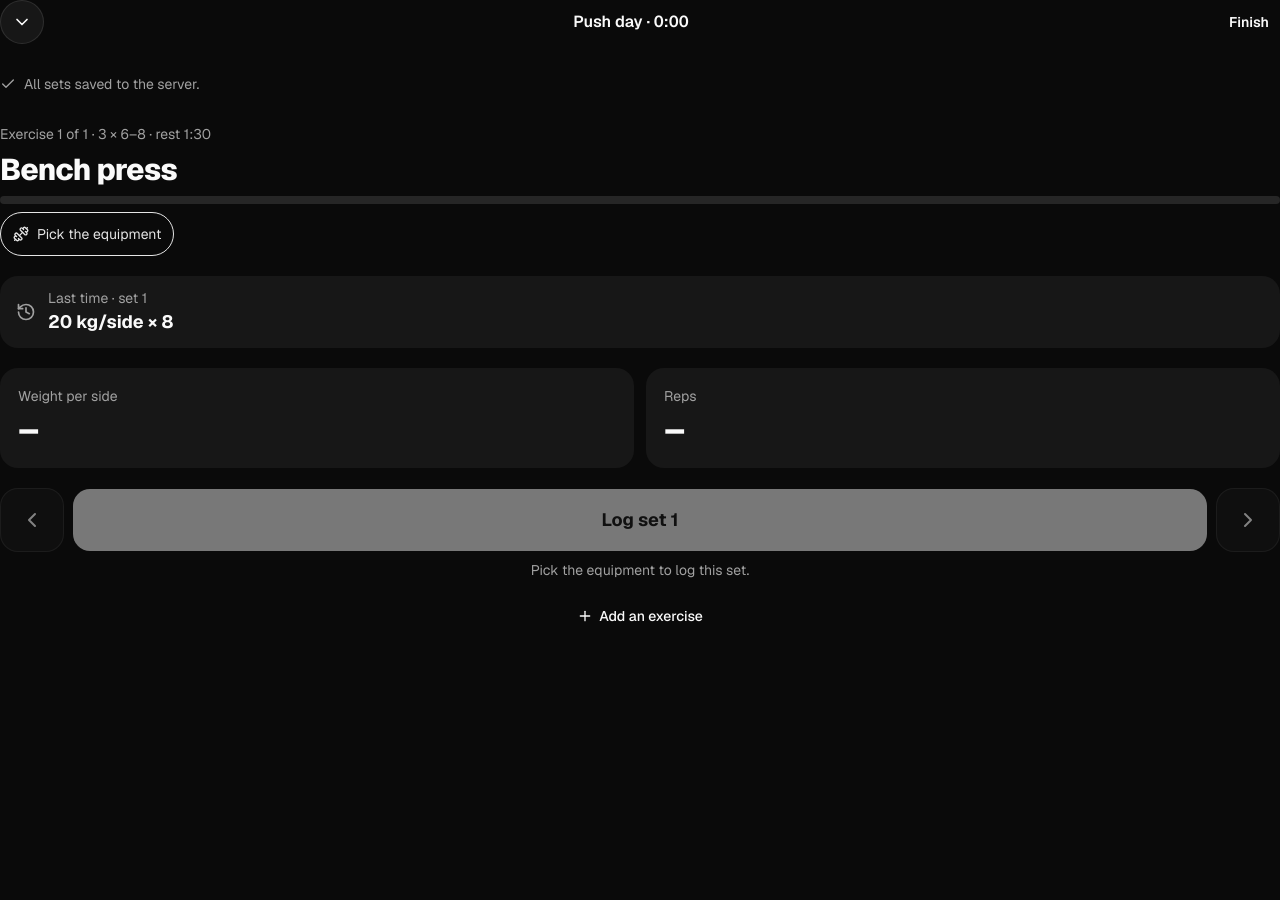
Scenario: the workout screen, wired › says why a set cannot be logged, and offers equipment that fits when there is none
The width and height of the screenshot is (1280, 900).
Expected: the text "Pick the equipment to log this set." is shown, [531,561,749,579]
Click the button "Pick the equipment": (87, 234) [0,212,174,256]
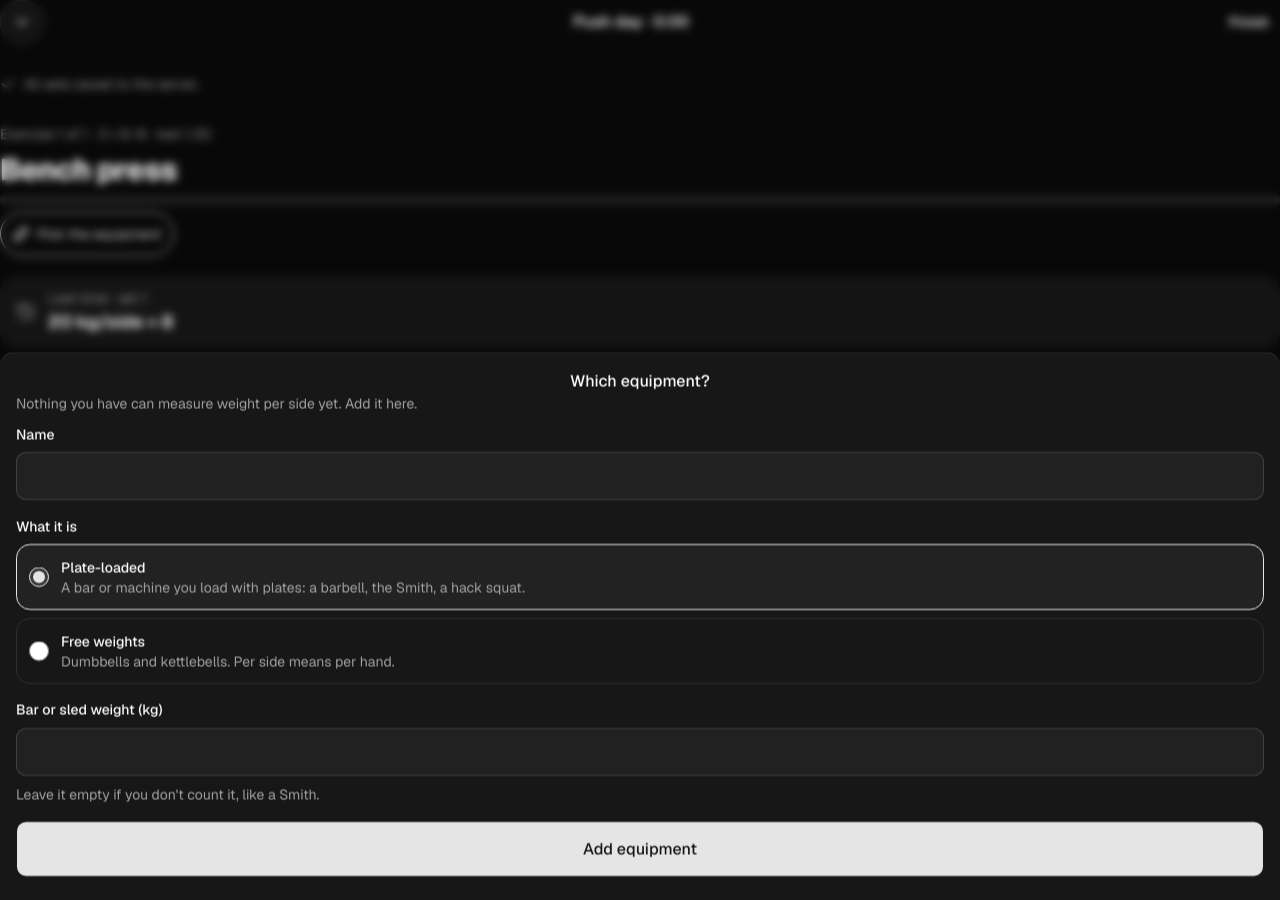
Result: the text "Nothing you have can measure weight per side" is shown at [16,394,417,412]
Result: the number of radio buttons is 2 at [29,567,49,587]; [29,641,49,661]
In the field labelled "Name": (640, 476) [16,452,1264,500], type "Olympic bar"
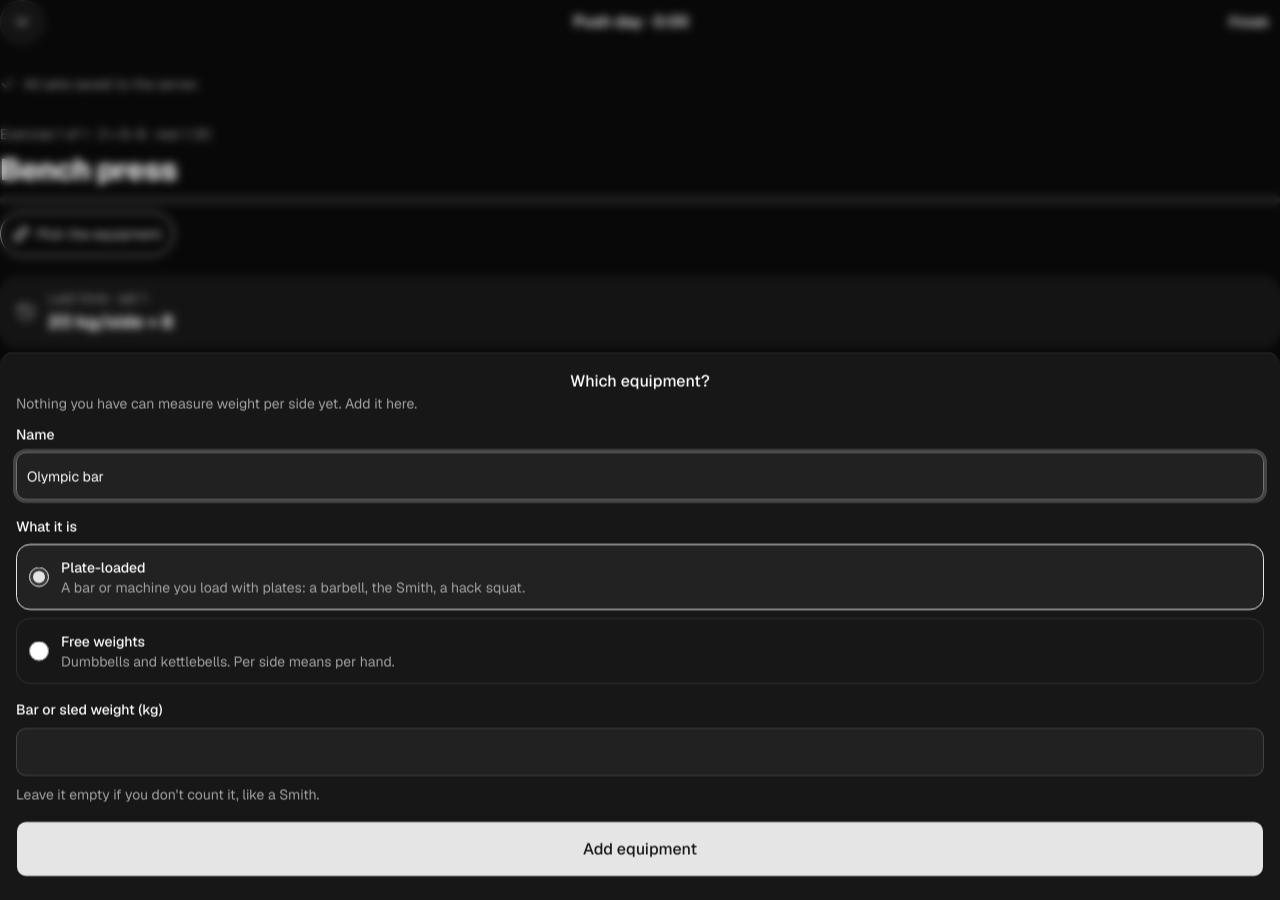
Click the radio button labelled "Plate-loaded": (39, 577) [29,567,49,587]
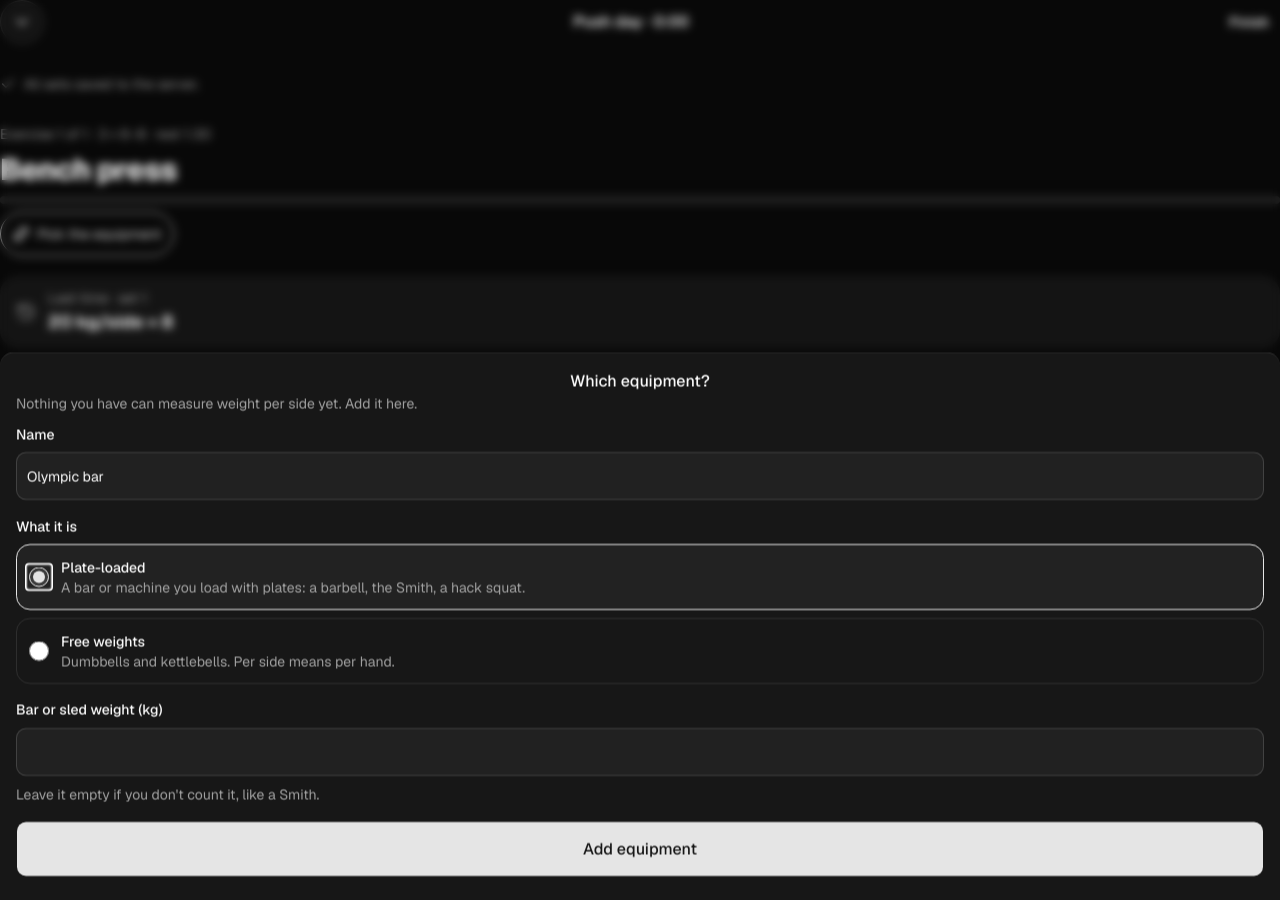
In the field labelled "Bar or sled weight (kg)": (640, 751) [16,727,1264,775], type "20"
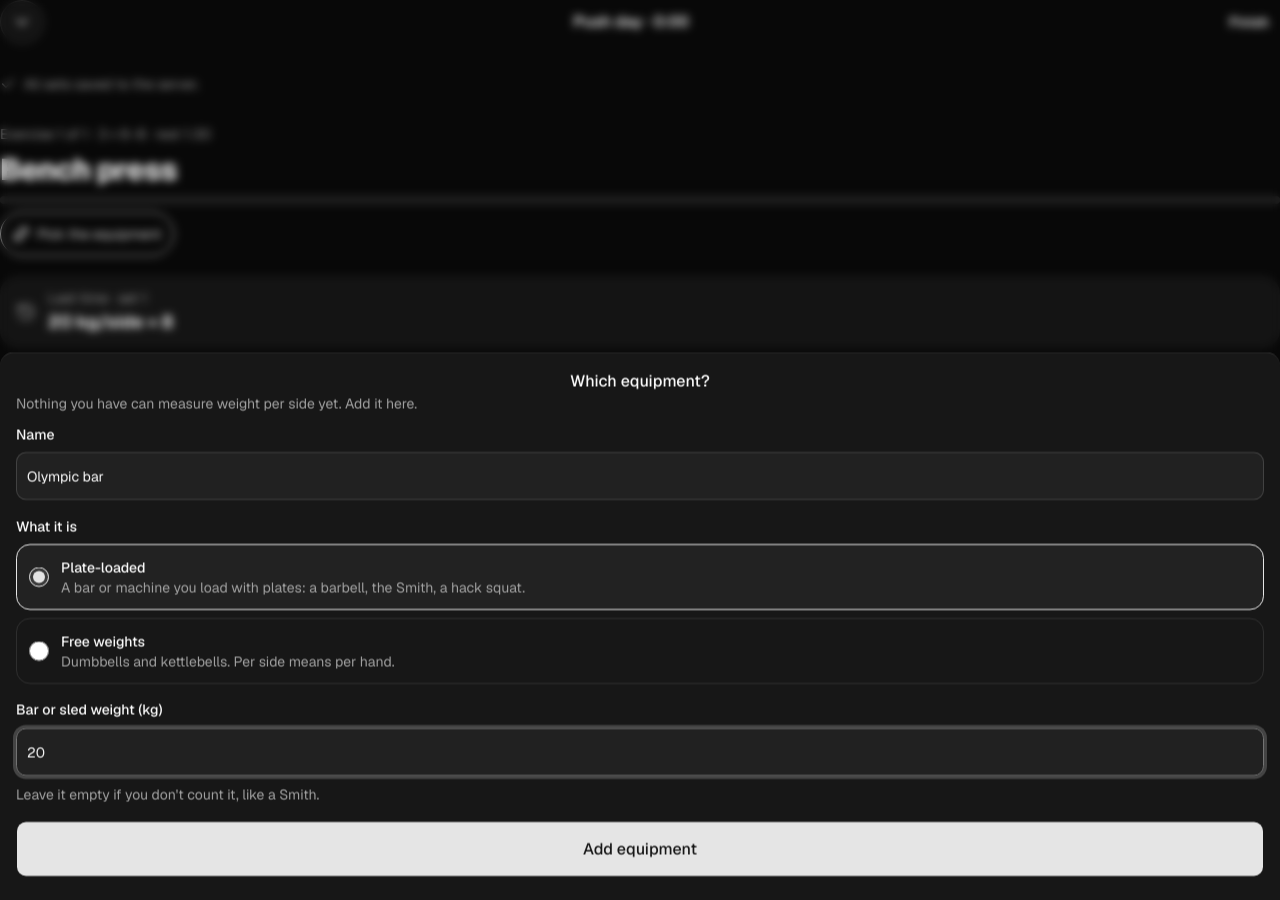
Click the button "Add equipment": (640, 848) [16,820,1264,876]
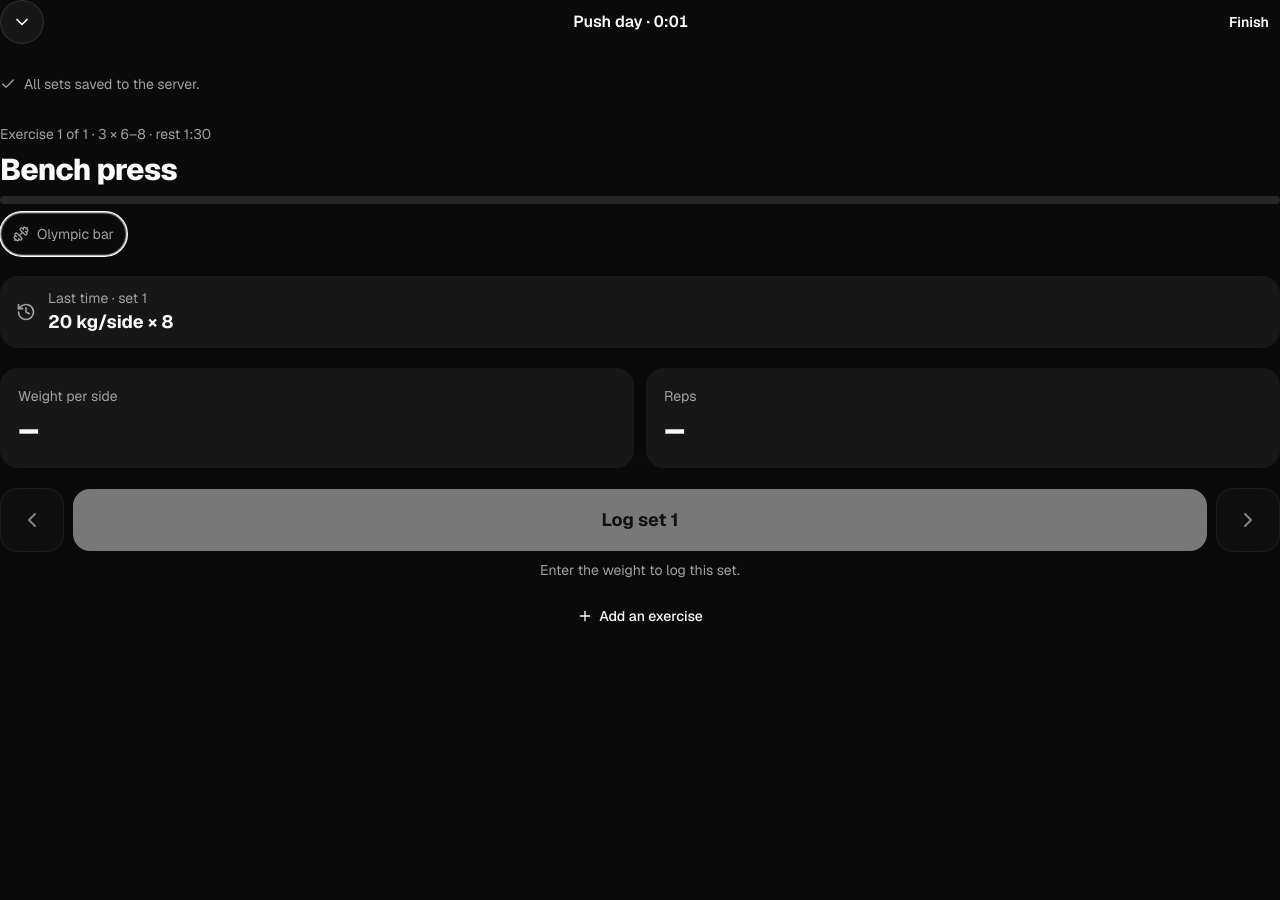
Result: the button with aria-label "Equipment: Olympic bar. Change" is shown at [0,212,127,256]
